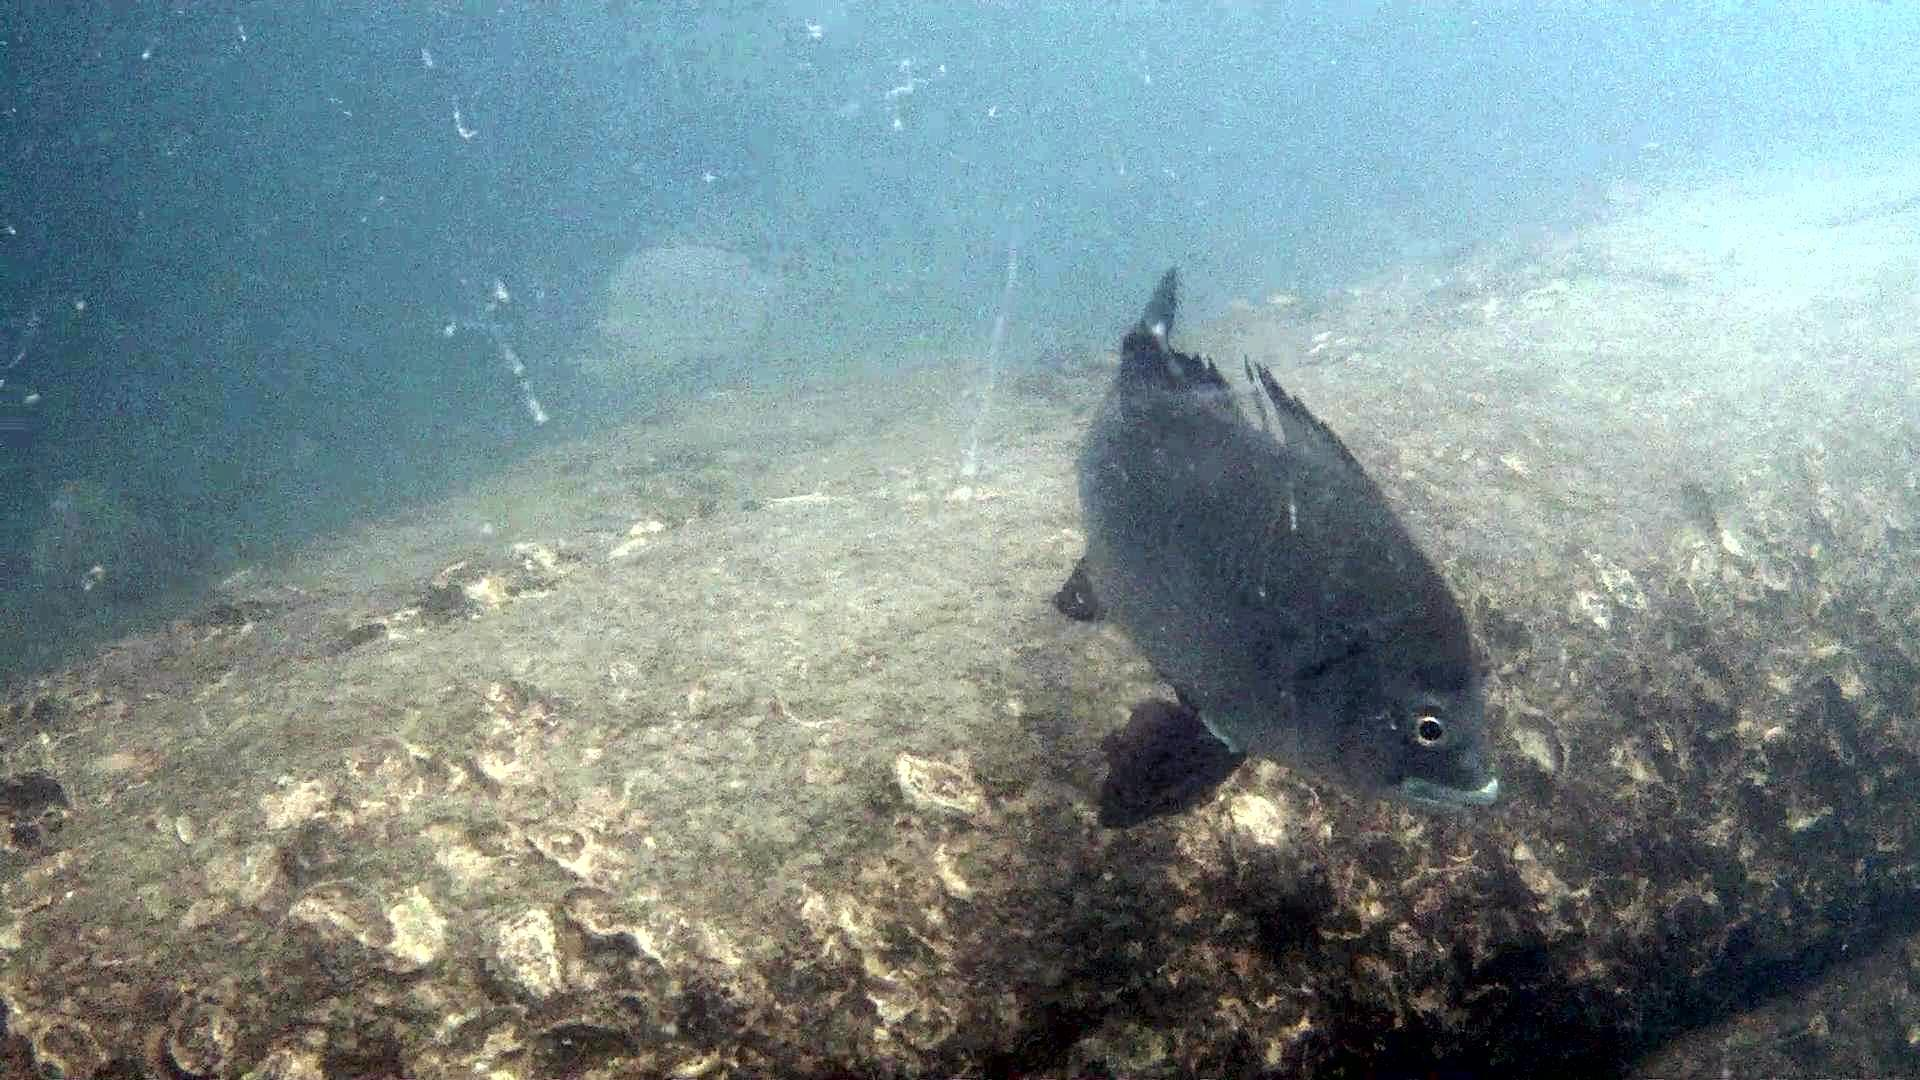acanthopagrus palmaris: (1048, 250, 1526, 834)
